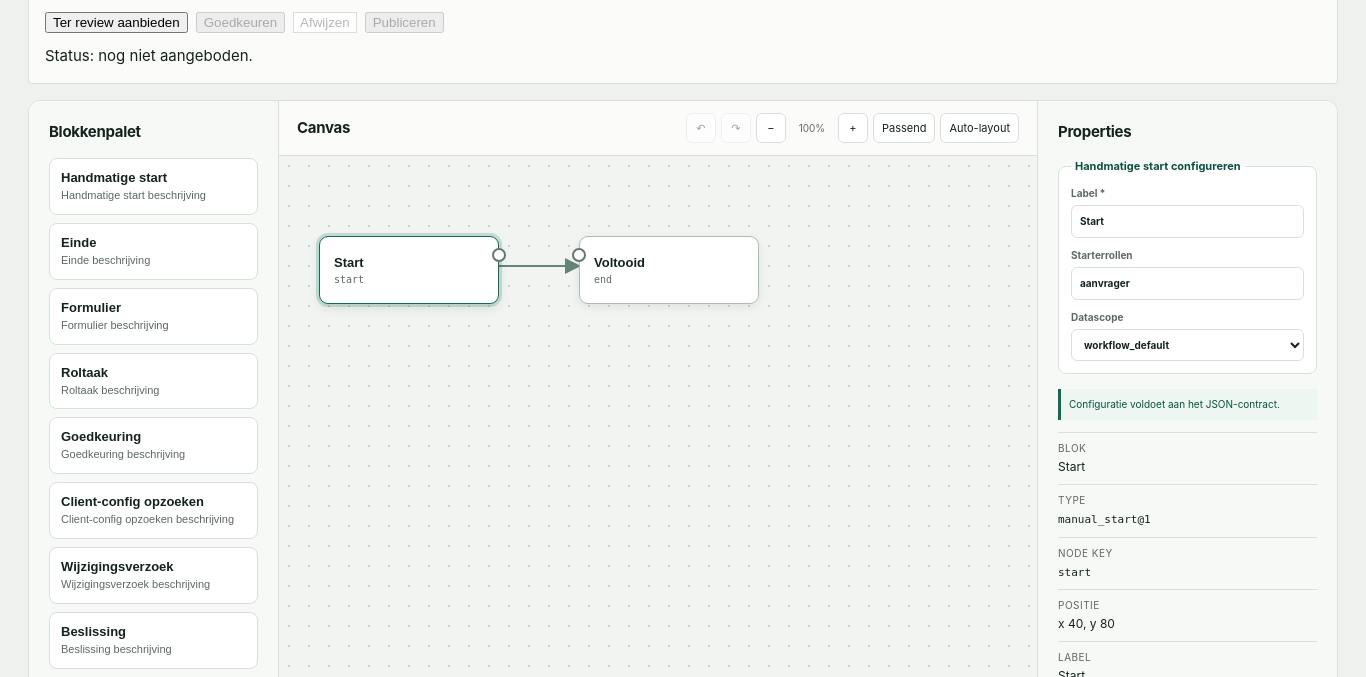
WorkflowEditorShell › offers typed outputs from other blocks through the shared data-mapping picker
(page scrolled)
Click the button "Formulier Formulier beschrijving" at (154, 316), box [49,288,258,344]
(page scrolled)
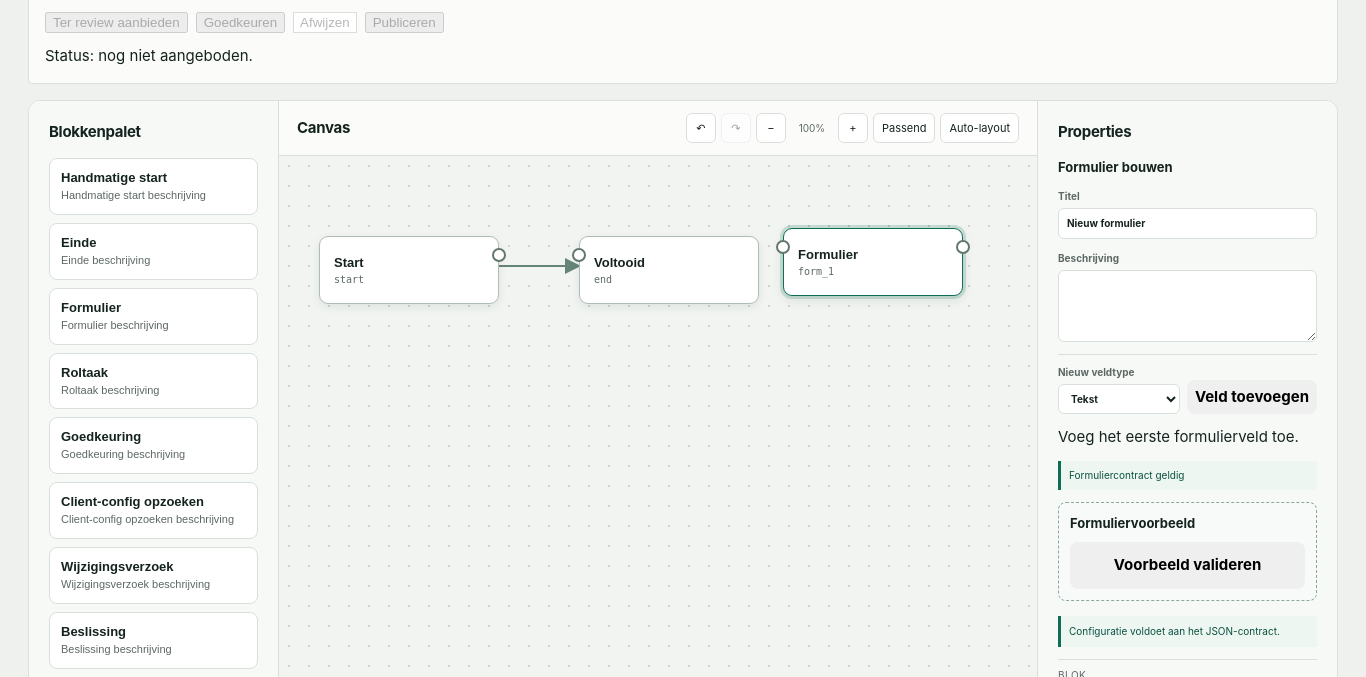
Click the button "Veld toevoegen" at (1252, 397), box [1187,380,1317,414]
(page scrolled)
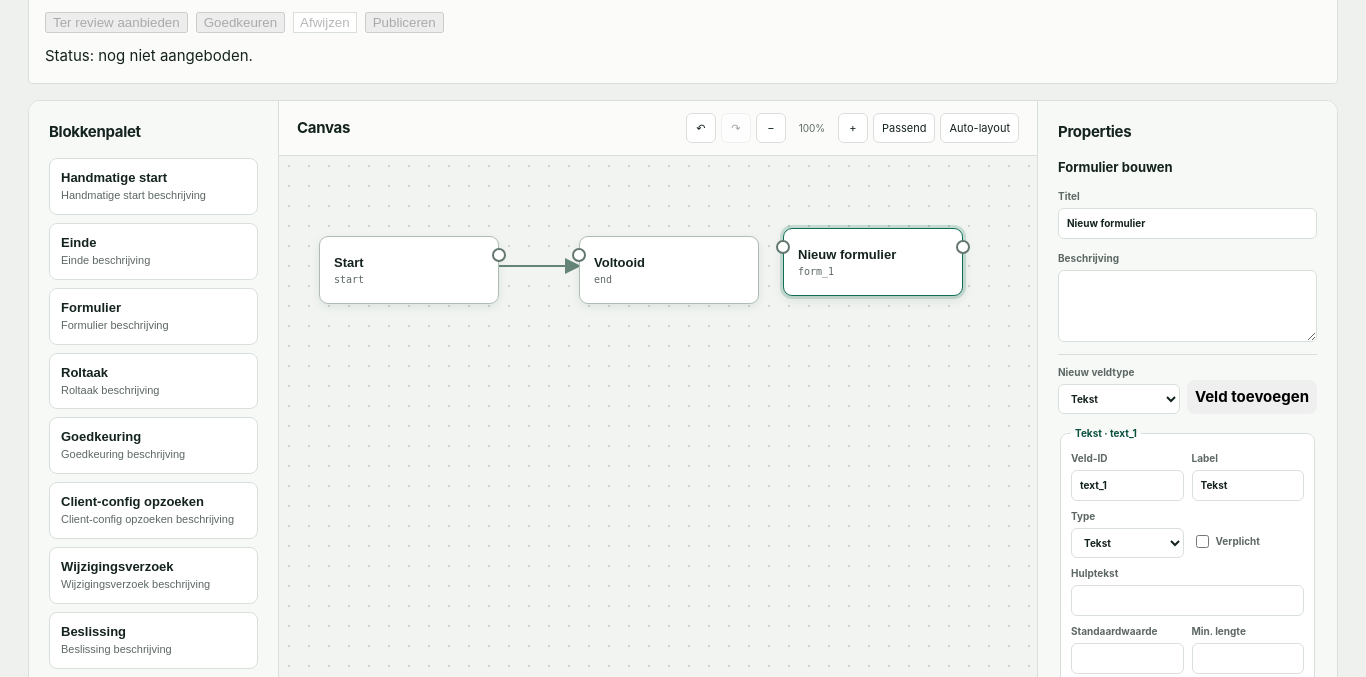
Click the button "Roltaak Roltaak beschrijving" at (154, 381), box [49,352,258,409]
(page scrolled)
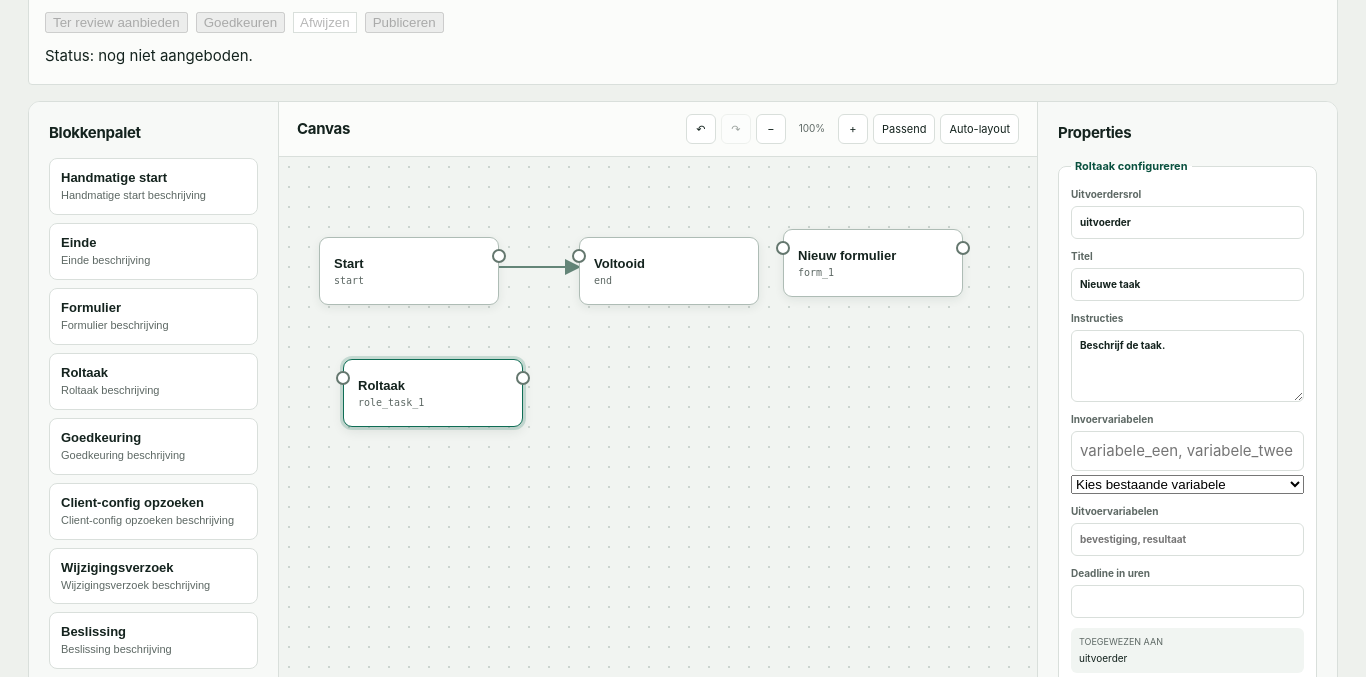
Select "text_1 · form_1 · text" in the dropdown named "Invoervariabelen kiezen" at (1188, 485), box [1071,476,1304,494]
(page scrolled)
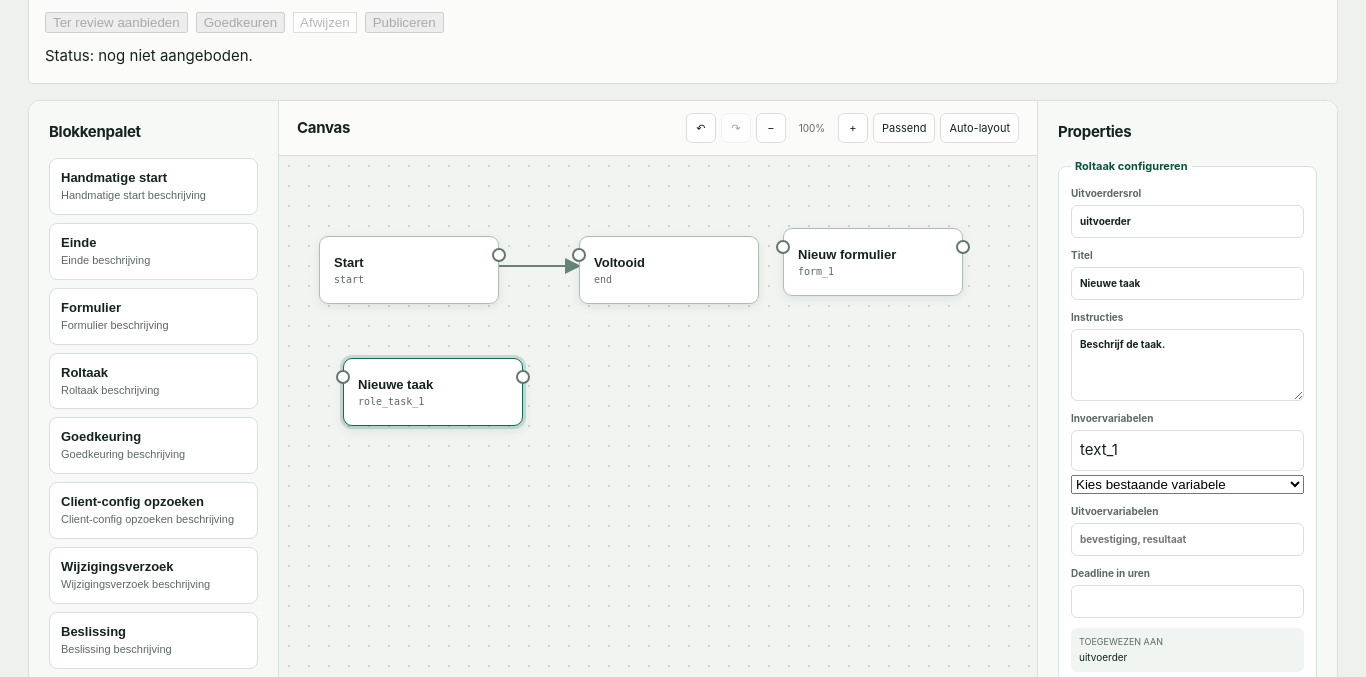
Expected: the field labelled "Invoervariabelen" holds "text_1", [1071,430,1304,471]
